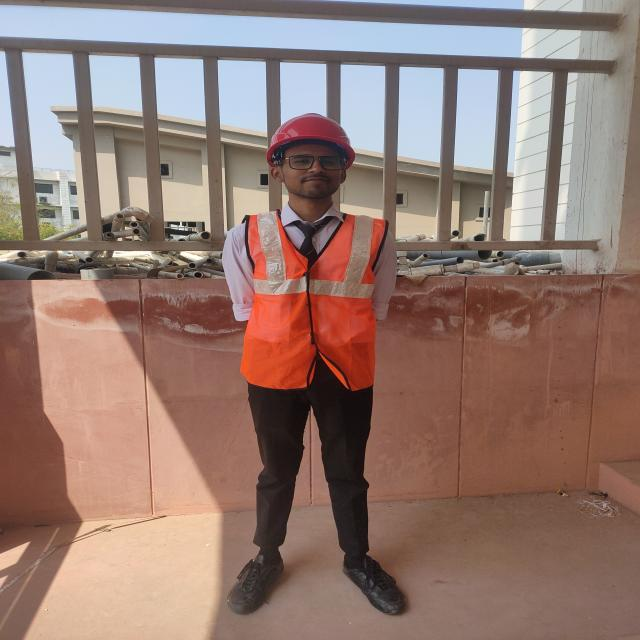safe: (220, 113, 405, 613)
